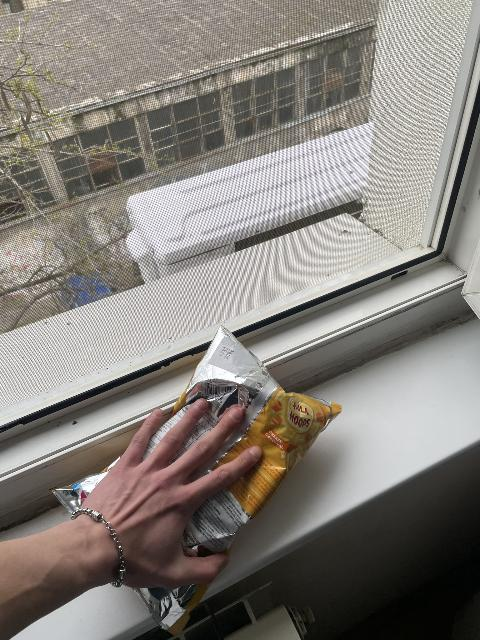Chio Hula Hoops Cheese 70g: (62, 324, 339, 626)
